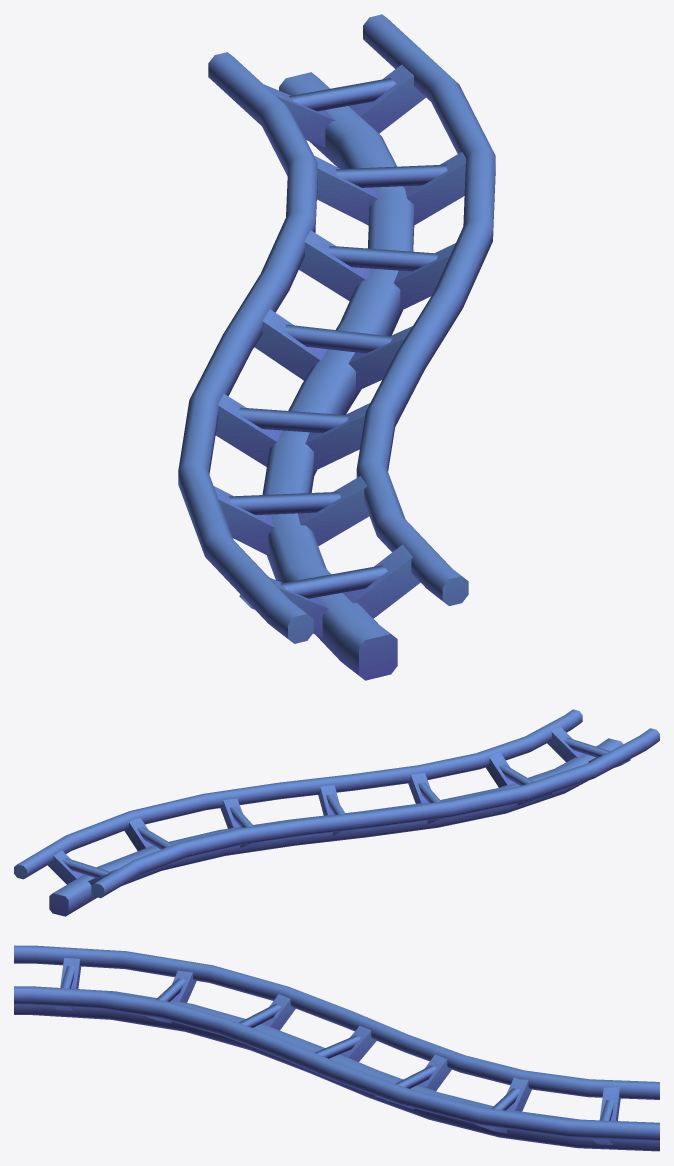
The model's file is coaster_steel_curve.glb.
3 renders of one model, top to bottom at view 1: azimuth 30°, elevation 25°; view 2: azimuth 150°, elevation 25°; view 3: azimuth 270°, elevation 25°, orthographic. The views are drawn at different scales.
Parts seen in each view (by area): view 1: coaster-steel-curve; view 2: coaster-steel-curve; view 3: coaster-steel-curve.
Part boxes in pixels (left/top/right/bottom): coaster-steel-curve: left=178, top=14, right=495, bottom=680; coaster-steel-curve: left=14, top=709, right=659, bottom=916; coaster-steel-curve: left=14, top=945, right=659, bottom=1151.
Size of the model in its own units: 2.7 by 0.3 by 4.
Materials: 1 (1 with a texture image).
